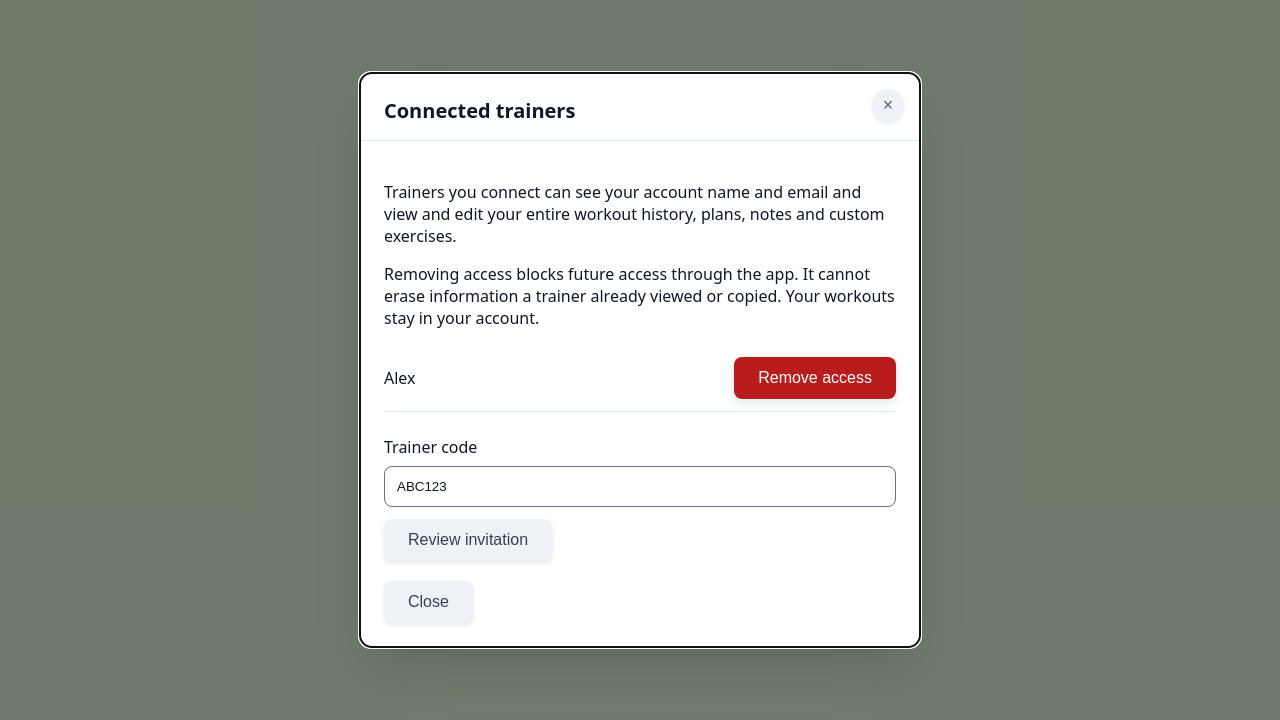
Test: trainer access consent › does not turn a refresh failure into an apparent removal failure
What coordinates should you click on to do the following:
click the button with aria-label "Remove access: Alex"
I would click on:
 (815, 378)
Its box is [734,357,896,399].
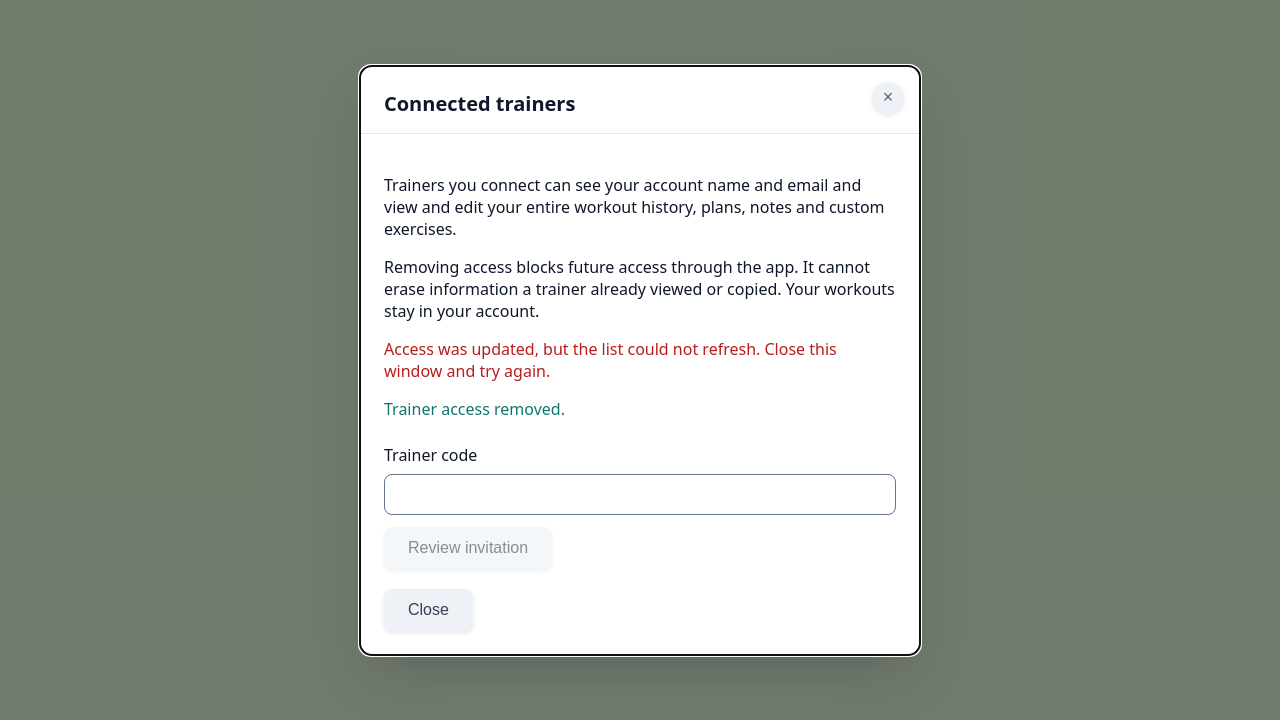
Expected: the text "Access was updated, but the list could not refresh. Close this window and try again." is shown, [384,338,837,382]
Expected: the text "Trainer access removed." is shown, [384,398,565,420]
